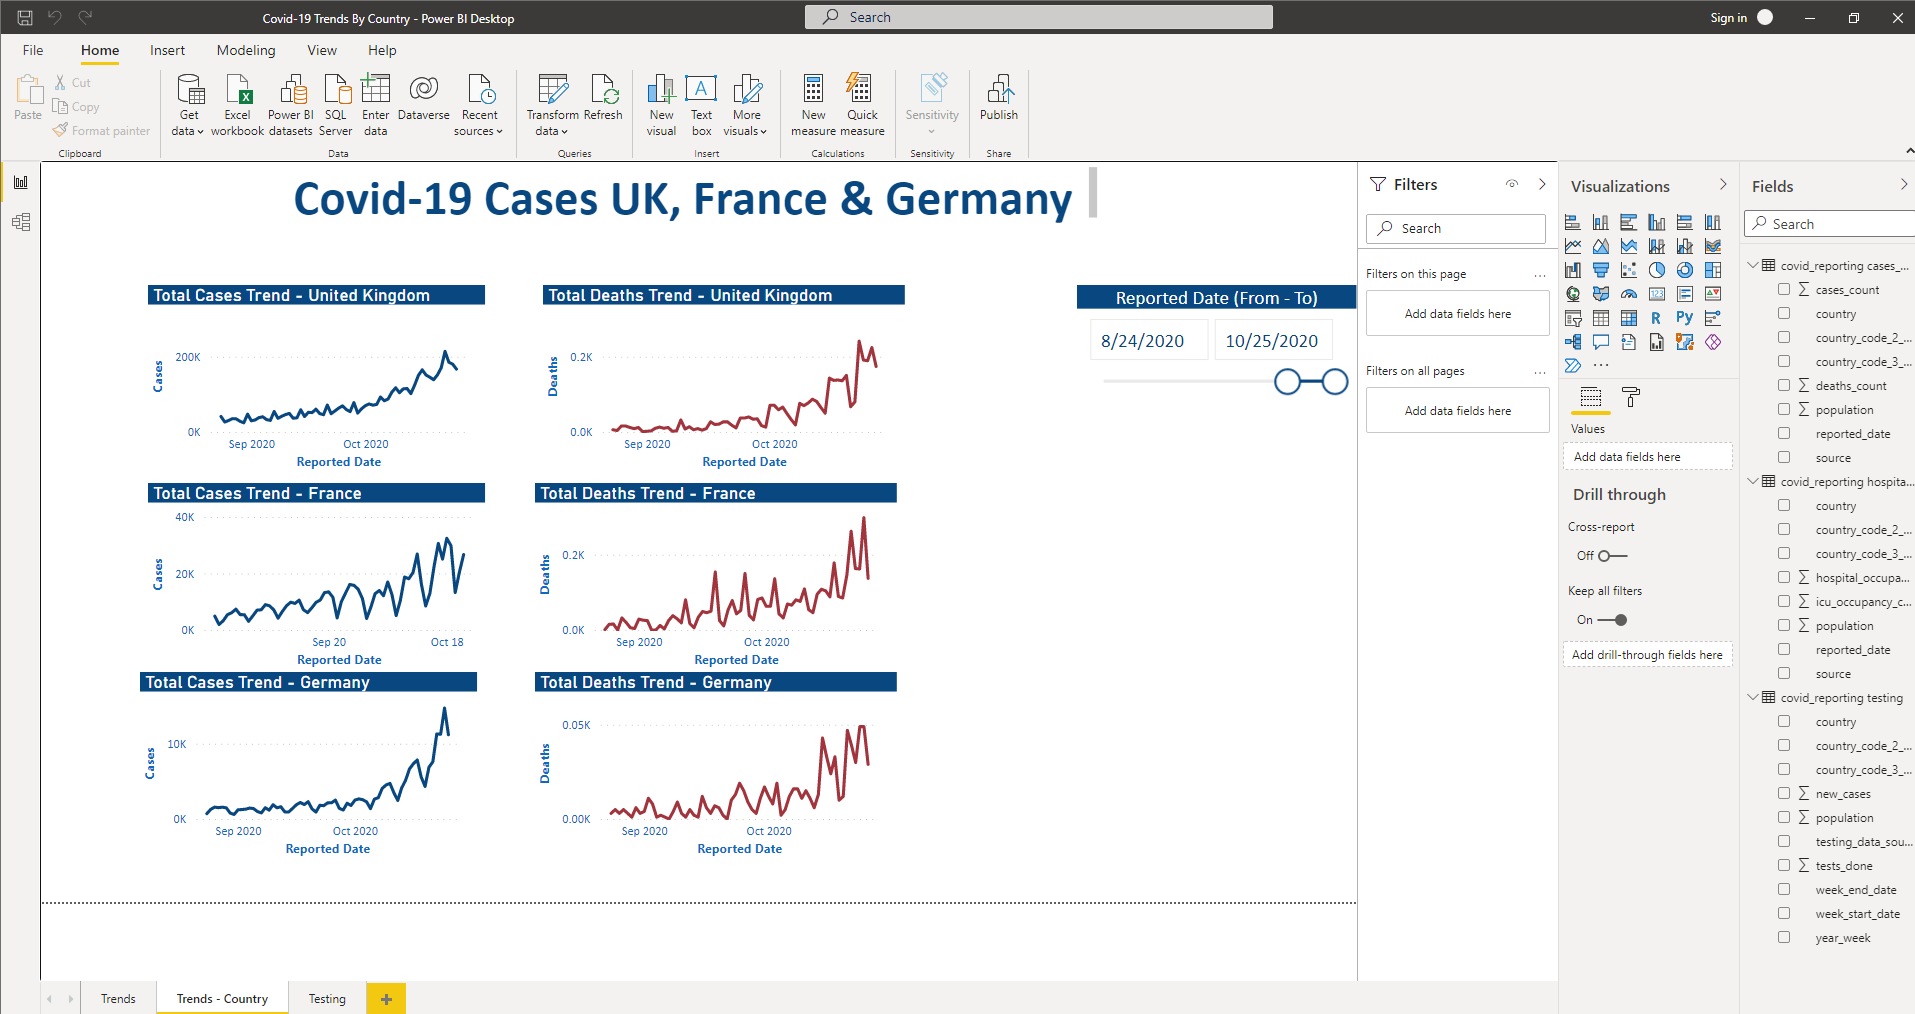

Layout of this report page (visuals, bound fields, positions):
{"tool":"powerbi","page":{"name":"Trends - Country","canvas":[1280,720],"ordinal":1},"visuals":[{"type":"lineChart","title":"Total Cases Trend - United Kingdom","fields":{"Category":["covid_reporting cases_and_deaths.reported_date"],"Y":["Sum(covid_reporting cases_and_deaths.cases_count)"]},"box":[104,120,328,184],"z":0},{"type":"slicer","title":"Reported Date (From - To)","fields":{"Values":["covid_reporting cases_and_deaths.reported_date"]},"box":[1008,120,272,112],"z":1000},{"type":"lineChart","title":"Total Cases Trend - France","fields":{"Category":["covid_reporting cases_and_deaths.reported_date"],"Y":["Sum(covid_reporting cases_and_deaths.cases_count)"]},"box":[104,312,328,184],"z":2000},{"type":"lineChart","title":"Total Cases Trend - Germany","fields":{"Category":["covid_reporting cases_and_deaths.reported_date"],"Y":["Sum(covid_reporting cases_and_deaths.cases_count)"]},"box":[96,496,328,184],"z":3000},{"type":"lineChart","title":"Total Deaths Trend - United Kingdom","fields":{"Category":["covid_reporting cases_and_deaths.reported_date"],"Y":["Sum(covid_reporting cases_and_deaths.deaths_count)"]},"box":[488,120,352,184],"z":4000},{"type":"lineChart","title":"Total Deaths Trend - France","fields":{"Category":["covid_reporting cases_and_deaths.reported_date"],"Y":["Sum(covid_reporting cases_and_deaths.deaths_count)"]},"box":[480,312,352,184],"z":5000},{"type":"lineChart","title":"Total Deaths Trend - Germany","fields":{"Category":["covid_reporting cases_and_deaths.reported_date"],"Y":["Sum(covid_reporting cases_and_deaths.deaths_count)"]},"box":[480,496,352,184],"z":6000},{"type":"textbox","box":[240,0,792,64],"z":7000}]}

Visuals, with their boxes on the page's 1280x720 design canvas (x1, y1, x2, y2). These are canvas units, not pixel positions in the 1915x1014 screenshot, which may show the page scaled, cropped or inside an application window:
"Total Cases Trend - United Kingdom" lineChart: 104, 120, 432, 304
"Reported Date (From - To)" slicer: 1008, 120, 1280, 232
"Total Cases Trend - France" lineChart: 104, 312, 432, 496
"Total Cases Trend - Germany" lineChart: 96, 496, 424, 680
"Total Deaths Trend - United Kingdom" lineChart: 488, 120, 840, 304
"Total Deaths Trend - France" lineChart: 480, 312, 832, 496
"Total Deaths Trend - Germany" lineChart: 480, 496, 832, 680
textbox: 240, 0, 1032, 64
